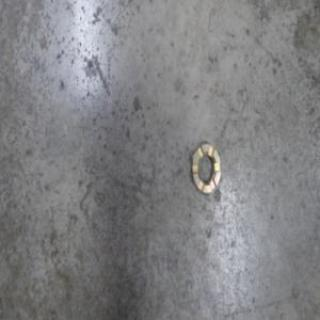Nuttrack_idkeyframe: (190, 138, 220, 196)
